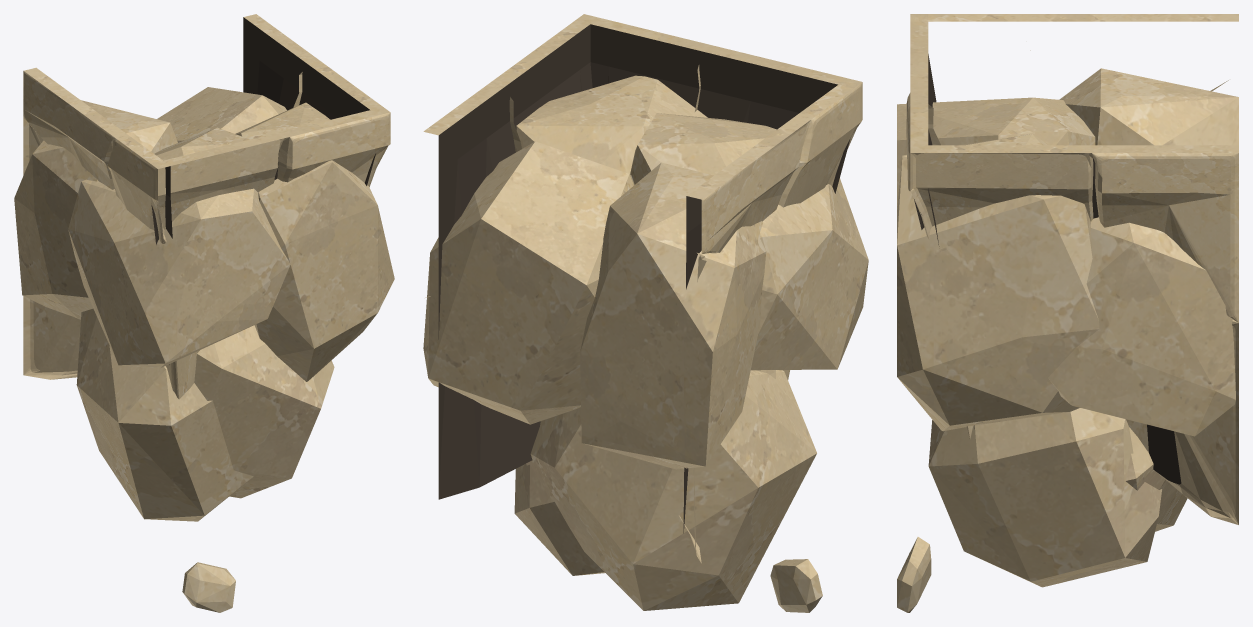
File: ground_bottom_end_07.glb
3 views of the same model, side by side, from view 1: azimuth 30°, elevation 25°; view 2: azimuth 150°, elevation 25°; view 3: azimuth 270°, elevation 25° (orthographic). The views are drawn at different scales.
Parts seen in each view (by area): view 1: GroundBottomEnd07_Body; view 2: GroundBottomEnd07_Body; view 3: GroundBottomEnd07_Body.
Part boxes in pixels (x1,y1,x2,y2): GroundBottomEnd07_Body: (14,14,394,612); GroundBottomEnd07_Body: (423,14,868,612); GroundBottomEnd07_Body: (897,14,1238,612).
Bounding box in the file's own units: 1.08 × 1.88 × 1.04.
13 materials, 12 textured.
